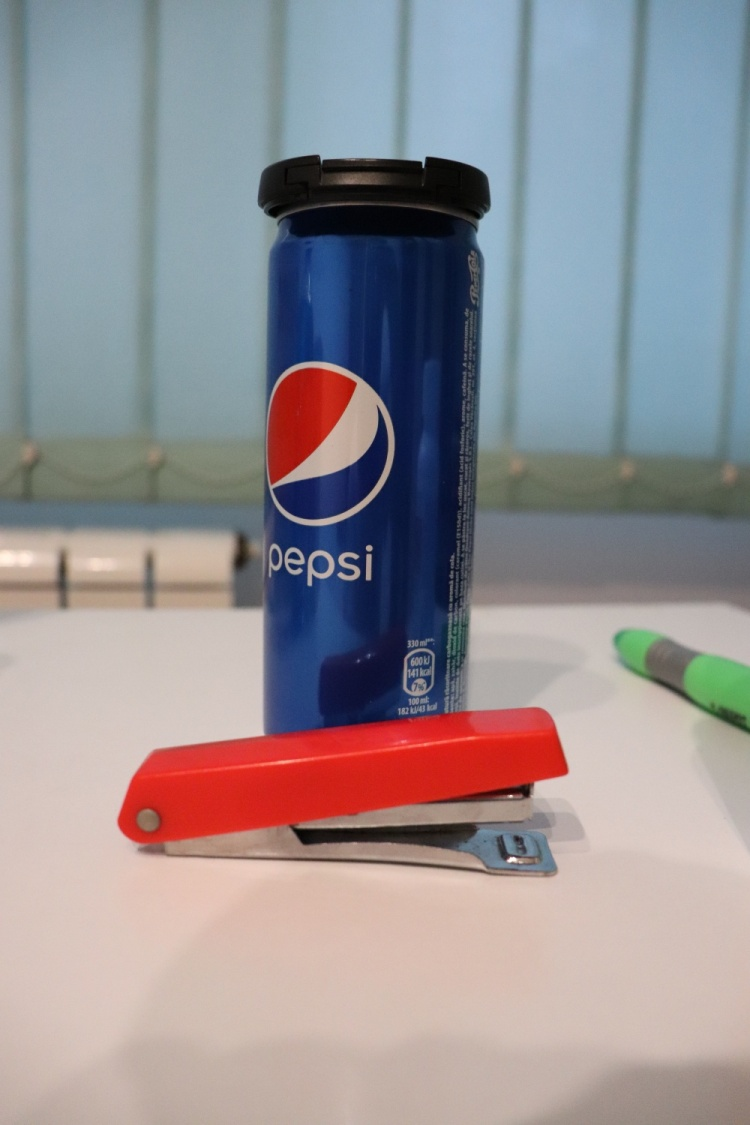pepsi: (260, 208, 483, 729)
